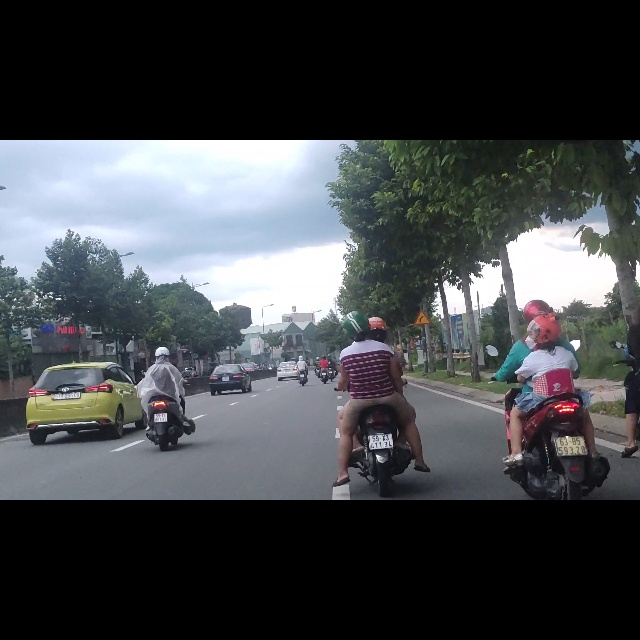bien_nguy_hiem: (413, 302, 430, 329)
